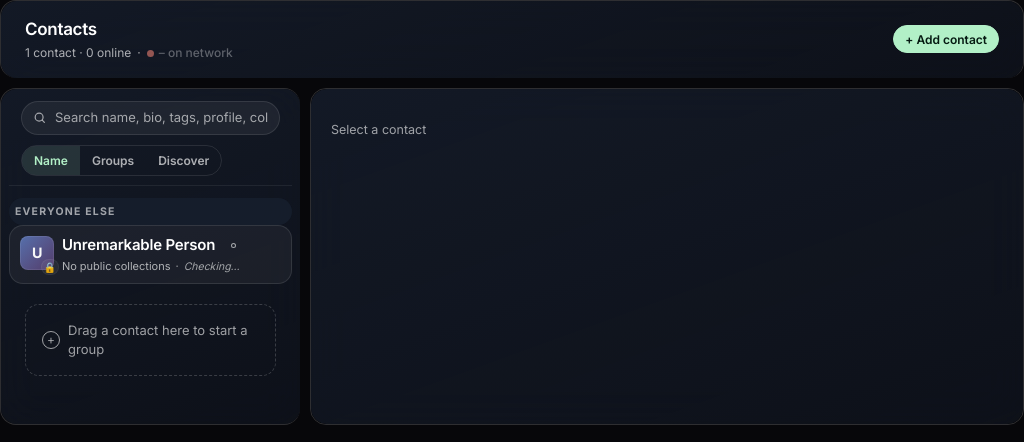
Test: QURATOR-136 — the contact's PUBLISHED fields are searchable › a term matching nothing still shows the no-match empty state
Expected: the option with class "contact-card" is shown, [9,226,292,284]
In the field with placeholder "Search name, bio, tags, profile, collections…": x=162, y=118 [55,108,268,127], type "zzz-no-such-term"
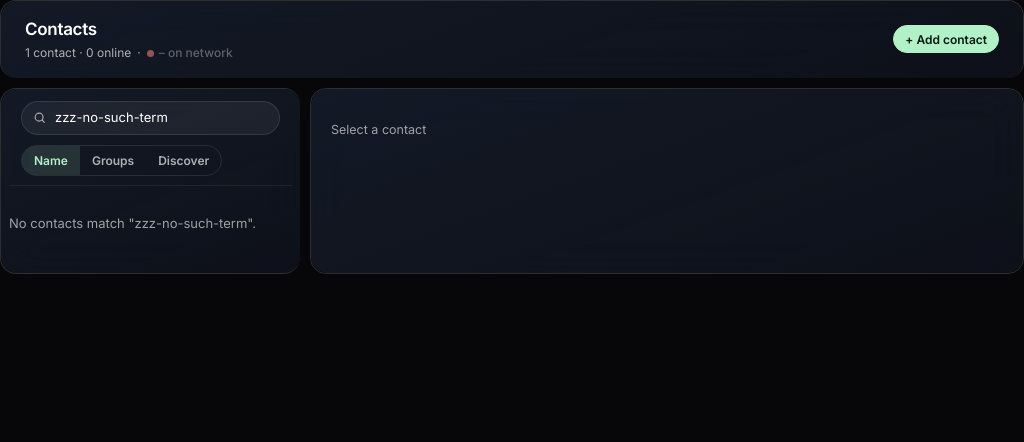
Result: the option with class "contact-card" is gone
Result: the text "No contacts match \"zzz-no-such-term\"." is shown at [9,215,256,231]
